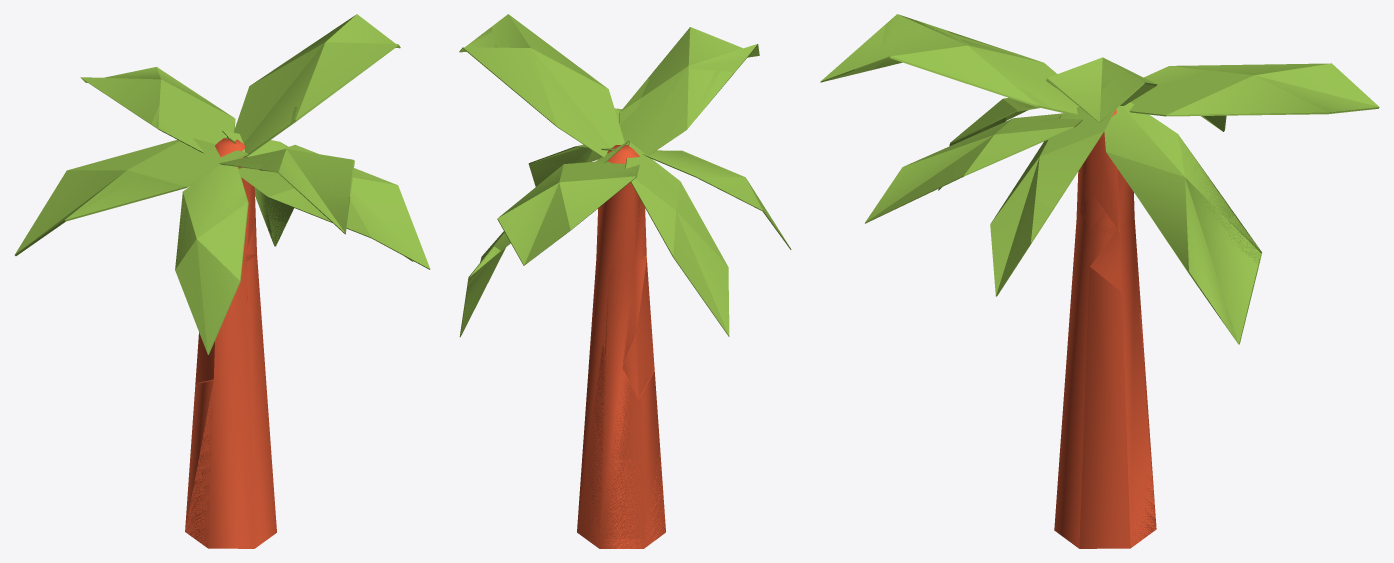
The model's file is PalmTree.fbx.
3 views of the same model, side by side, from view 1: azimuth 30°, elevation 25°; view 2: azimuth 150°, elevation 25°; view 3: azimuth 270°, elevation 25° (orthographic). The views are drawn at different scales.
Visible parts, largest first — view 1: PalmTree, PalmTree_cell.013, PalmTree_cell.017, PalmTree_cell.019, PalmTree_cell.010, PalmTree_cell.006, PalmTree_cell.028, PalmTree_cell.026, PalmTree_cell.012, PalmTree_cell.014, PalmTree_cell.004; view 2: PalmTree, PalmTree_cell.010, PalmTree_cell.004, PalmTree_cell.012, PalmTree_cell.028, PalmTree_cell.017, PalmTree_cell.019, PalmTree_cell.013, PalmTree_cell.006; view 3: PalmTree, PalmTree_cell.010, PalmTree_cell.017, PalmTree_cell.001, PalmTree_cell.004, PalmTree_cell.006, PalmTree_cell.023, PalmTree_cell.021, PalmTree_cell.005, PalmTree_cell.013.
Boxes of the visible parts, bbox=[...] form: PalmTree: bbox=[14, 14, 430, 548]; PalmTree_cell.013: bbox=[176, 179, 248, 354]; PalmTree_cell.017: bbox=[151, 84, 234, 153]; PalmTree_cell.019: bbox=[141, 138, 247, 200]; PalmTree_cell.010: bbox=[185, 380, 213, 547]; PalmTree_cell.006: bbox=[259, 149, 354, 199]; PalmTree_cell.028: bbox=[22, 147, 152, 249]; PalmTree_cell.026: bbox=[254, 187, 293, 245]; PalmTree_cell.012: bbox=[195, 251, 247, 383]; PalmTree_cell.014: bbox=[249, 176, 294, 198]; PalmTree_cell.004: bbox=[216, 138, 255, 249]; PalmTree: bbox=[459, 14, 791, 548]; PalmTree_cell.010: bbox=[577, 346, 665, 548]; PalmTree_cell.004: bbox=[596, 145, 646, 365]; PalmTree_cell.012: bbox=[622, 253, 654, 398]; PalmTree_cell.028: bbox=[639, 196, 728, 322]; PalmTree_cell.017: bbox=[560, 161, 639, 181]; PalmTree_cell.019: bbox=[626, 141, 677, 201]; PalmTree_cell.013: bbox=[679, 150, 790, 248]; PalmTree_cell.006: bbox=[687, 27, 758, 72]; PalmTree: bbox=[821, 14, 1379, 548]; PalmTree_cell.010: bbox=[1079, 266, 1156, 548]; PalmTree_cell.017: bbox=[1129, 65, 1269, 116]; PalmTree_cell.001: bbox=[990, 190, 1051, 295]; PalmTree_cell.004: bbox=[1080, 131, 1136, 243]; PalmTree_cell.006: bbox=[855, 14, 971, 80]; PalmTree_cell.023: bbox=[1080, 191, 1121, 291]; PalmTree_cell.021: bbox=[1109, 107, 1262, 266]; PalmTree_cell.005: bbox=[1020, 128, 1102, 196]; PalmTree_cell.013: bbox=[938, 99, 1039, 189].
Size of the model in its own units: 2.58 by 3.53 by 3.39.
